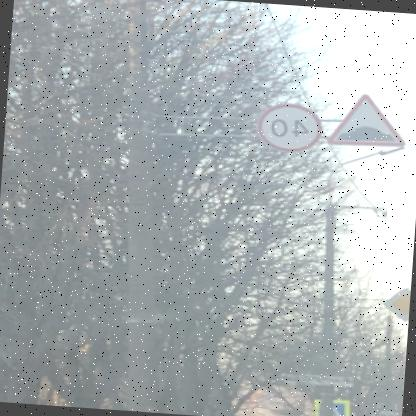speedlimit: (259, 100, 327, 152)
